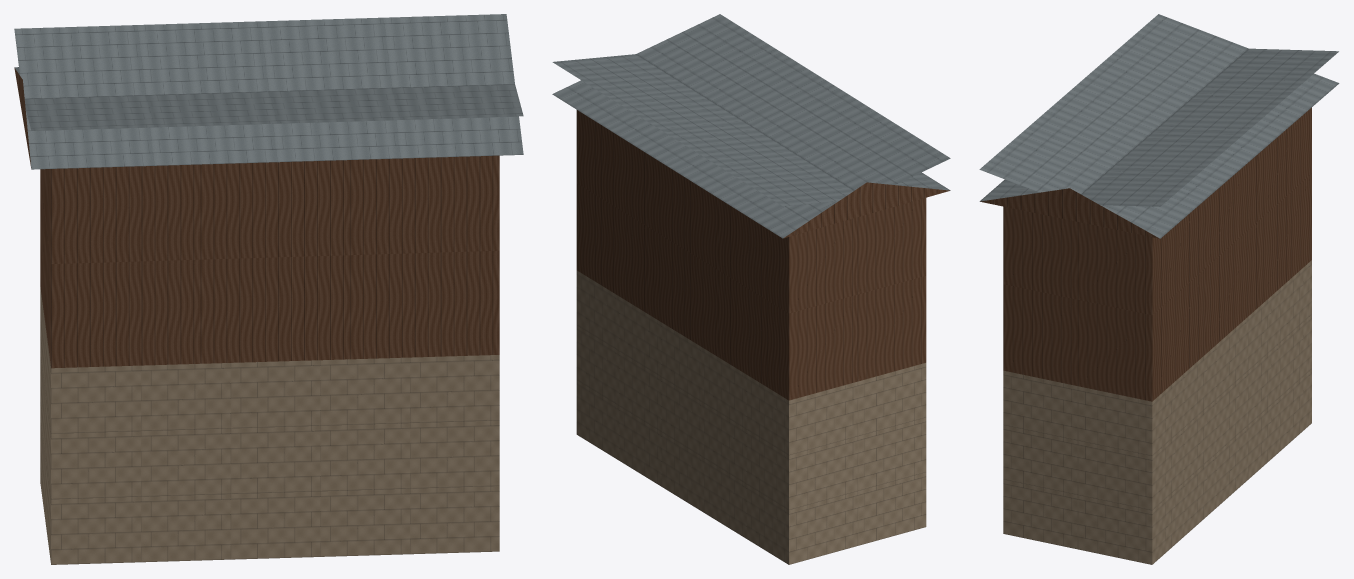
Rendered from bld_c18_15_520.gltf.
3 views of the same model, side by side, from view 1: azimuth 30°, elevation 25°; view 2: azimuth 150°, elevation 25°; view 3: azimuth 270°, elevation 25° (orthographic). The views are drawn at different scales.
Parts seen in each view (by area): view 1: bld_c18_15_520; view 2: bld_c18_15_520; view 3: bld_c18_15_520.
Part boxes in pixels (x1,y1,x2,y2): bld_c18_15_520: (14, 14, 523, 564); bld_c18_15_520: (552, 14, 950, 564); bld_c18_15_520: (979, 14, 1339, 564).
Bounding box in the file's own units: 12.92 × 11.5 × 10.2.
Materials: 4 (4 with a texture image).
